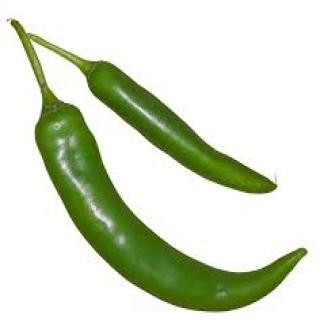Cabai Hijau: (25, 50, 304, 312), (46, 51, 280, 196)
